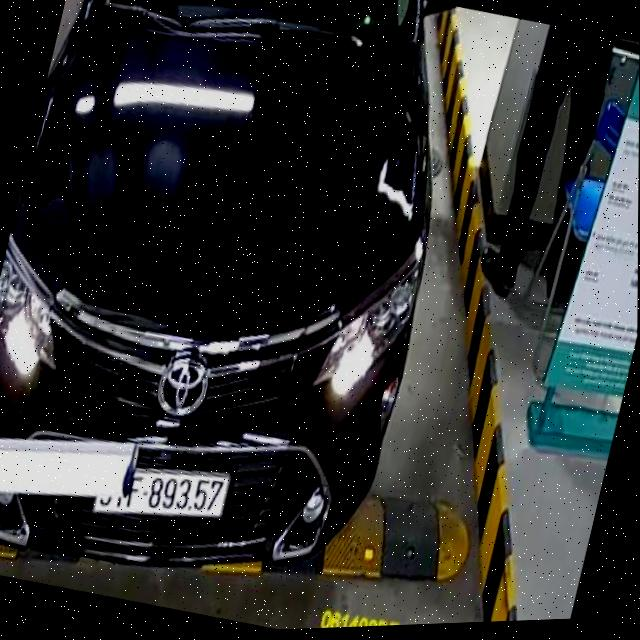car: (0, 0, 493, 630)
plate: (90, 449, 228, 540)
